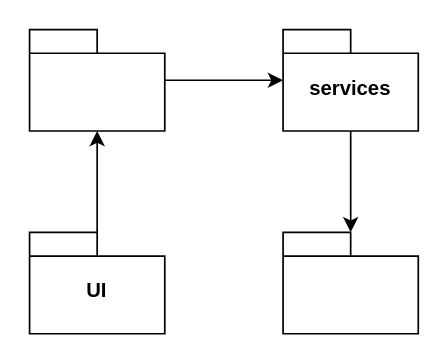
Image size: 448x363. Some labels were removed from this diagram. The shapes that lost their labels are listed below. From the top down, each one's centre as x and y in pixels, then its label:
pixel 96 79: backend
pixel 349 282: API
